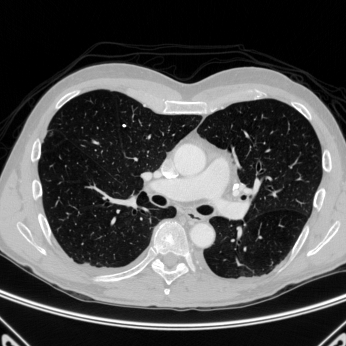nodule: (122, 123, 126, 127)
